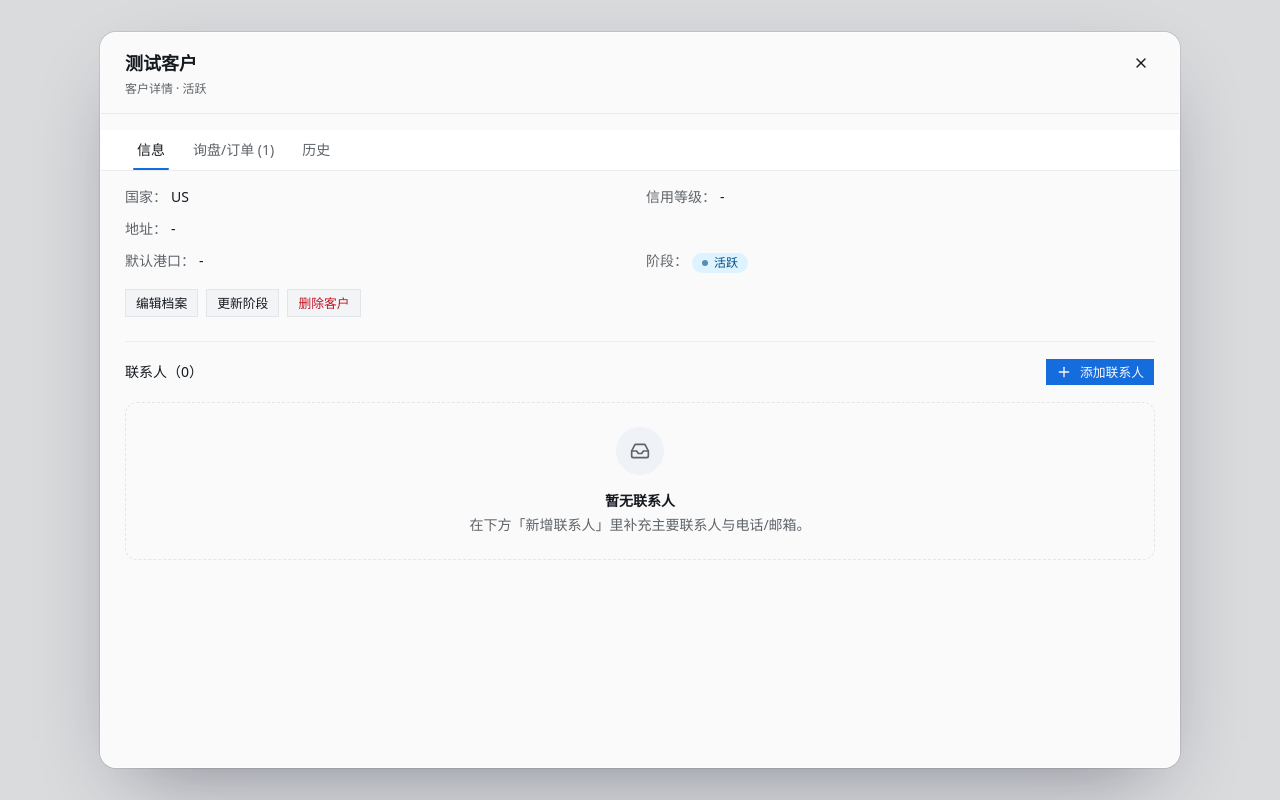
Test case: 客户详情「询盘/订单」tab 计数（问题 5） › 无订单客户：计数只有询盘数
Click the tab "询盘/订单 (1)": (234, 150) [181,130,286,170]
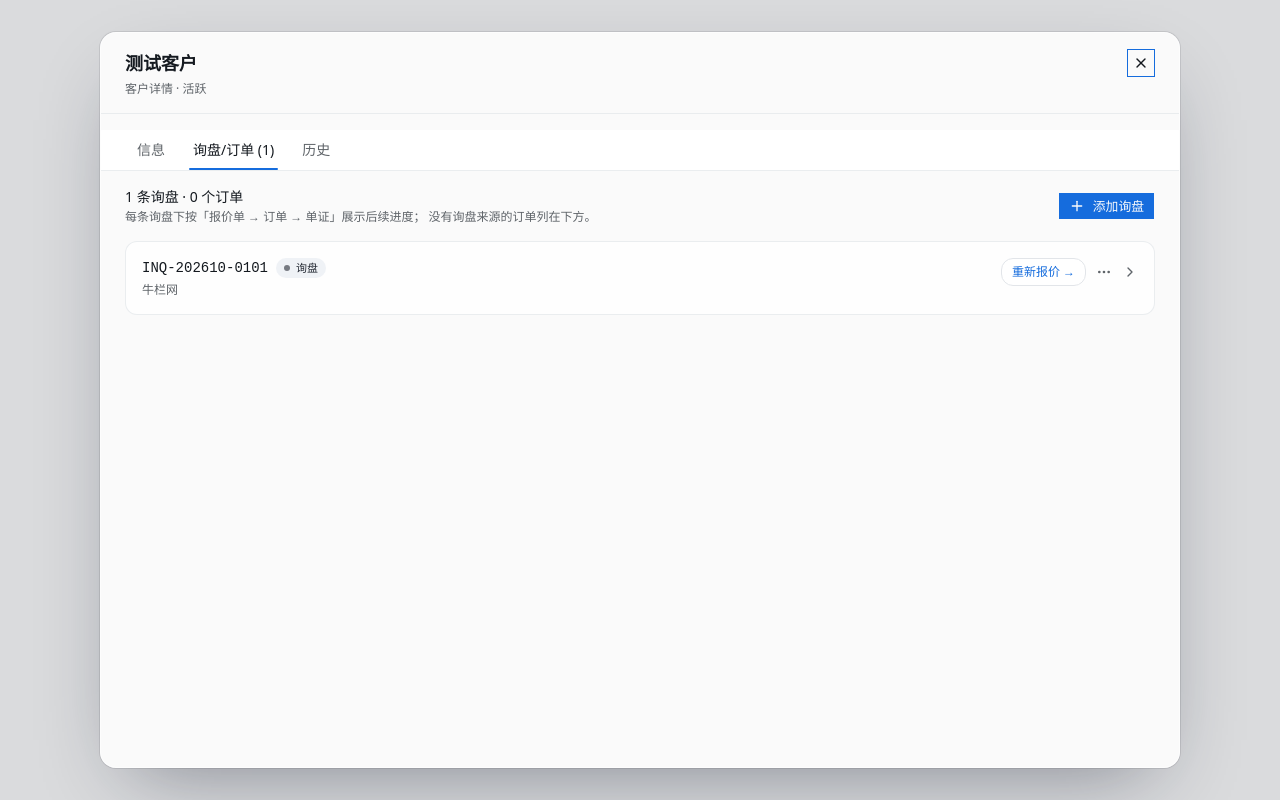
Now the text "1 条询盘 · 0 个订单" is shown, box [125,187,243,206]
